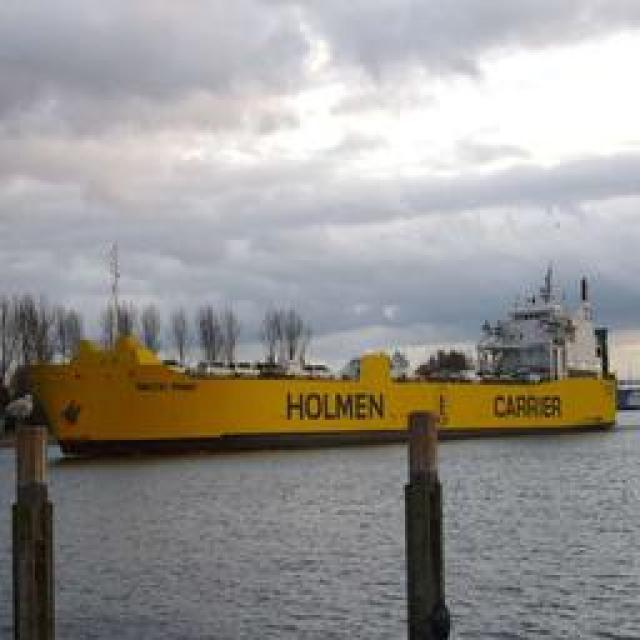CIV_Ship: (19, 315, 624, 455)
